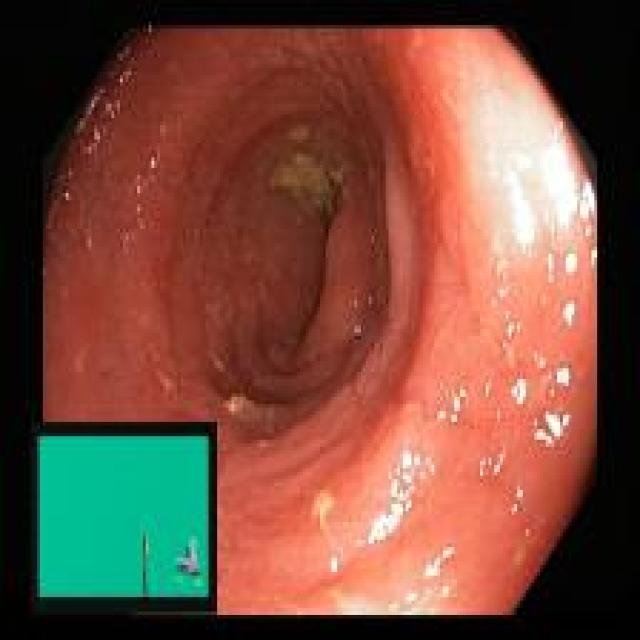ulcerative-colitis: (45, 30, 598, 615)
